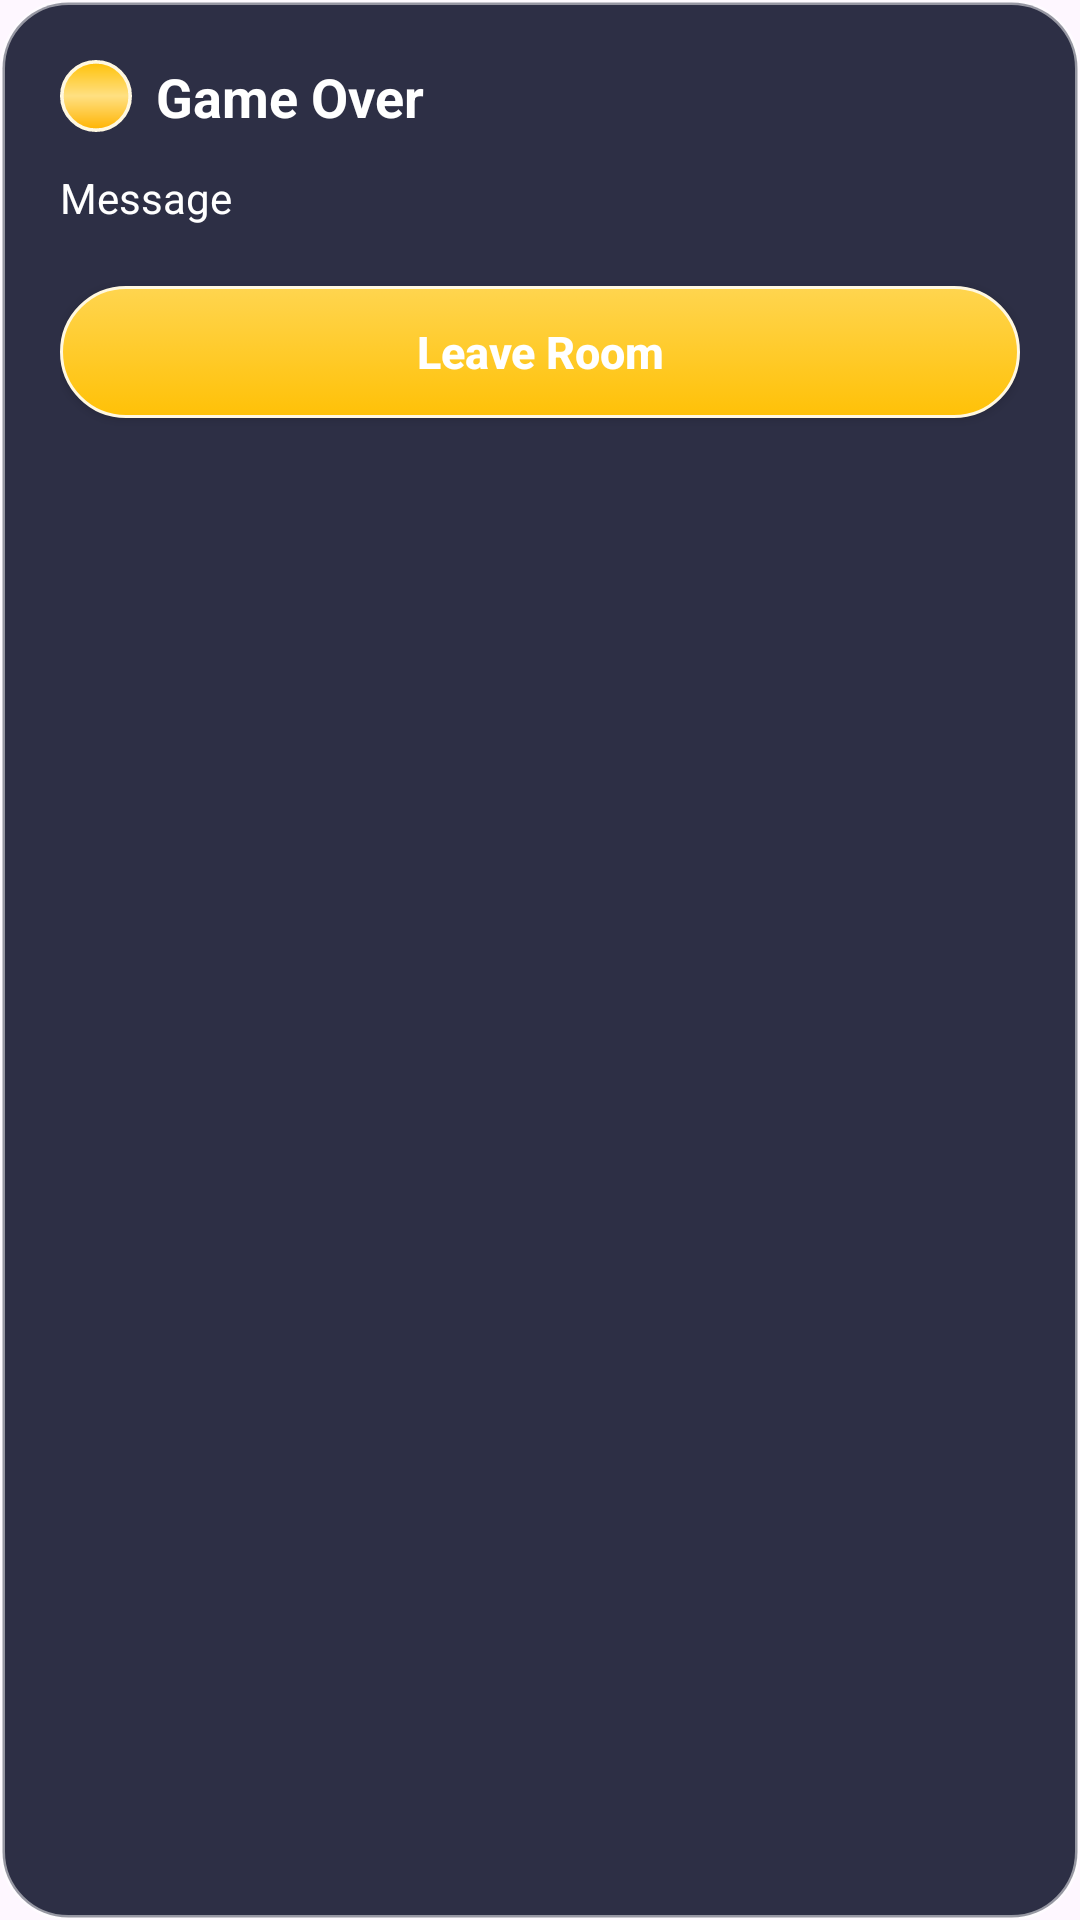

Icon bounding boxes for this 1080 × 1920 phone screenshot, format (x1, y1, x2, y2):
coin: (60, 60, 132, 132)
